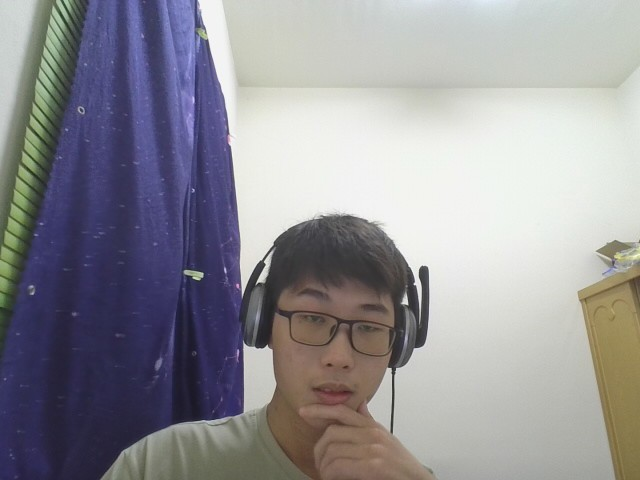No_Gloves: (299, 395, 440, 480)
No_Helmet: (239, 209, 428, 438)
person: (7, 193, 552, 480)
